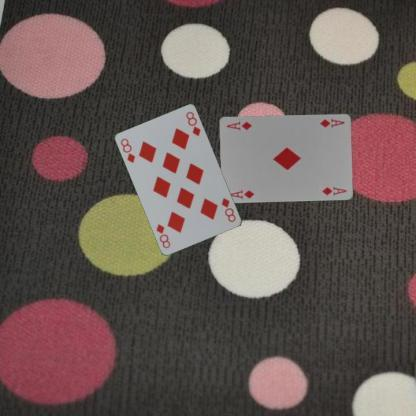8d: (118, 136, 137, 164), (219, 195, 237, 224)
Ad: (318, 115, 347, 129), (227, 188, 256, 200)
